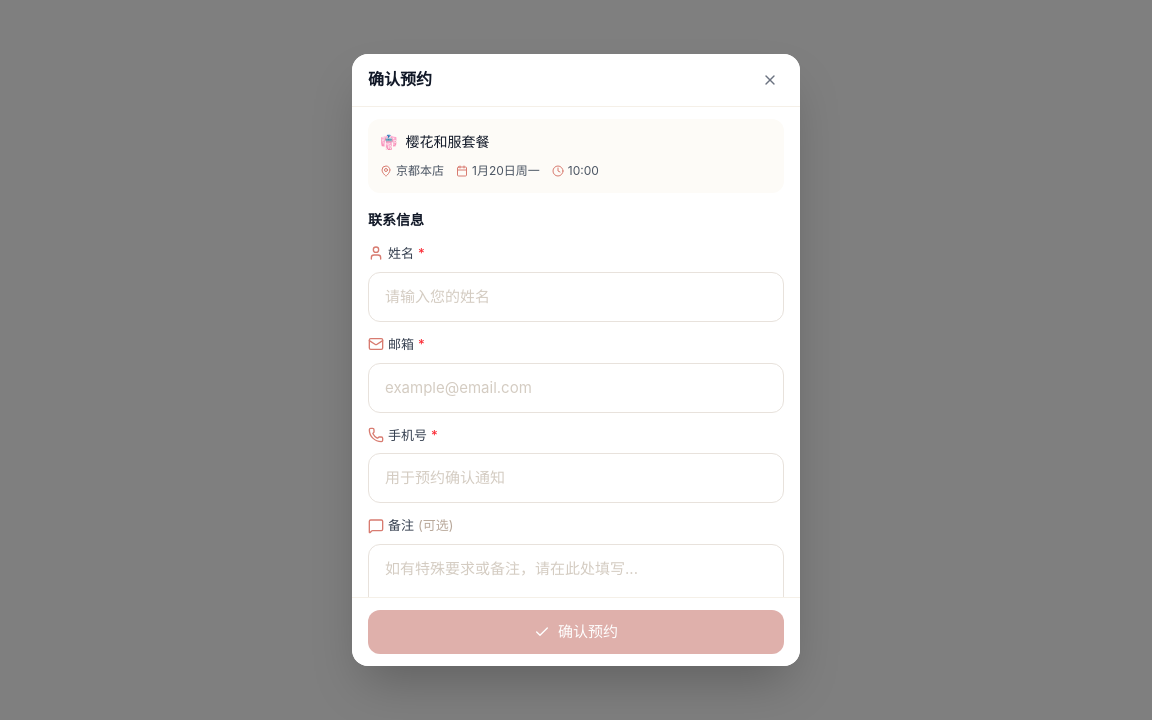
Scenario: InstantBookingModal › 表单验证 › 填写姓名和邮箱后启用提交按钮
The width and height of the screenshot is (1152, 720).
Type "张三" into the field with placeholder "请输入您的姓名" at [576, 297], box [368, 272, 784, 322]
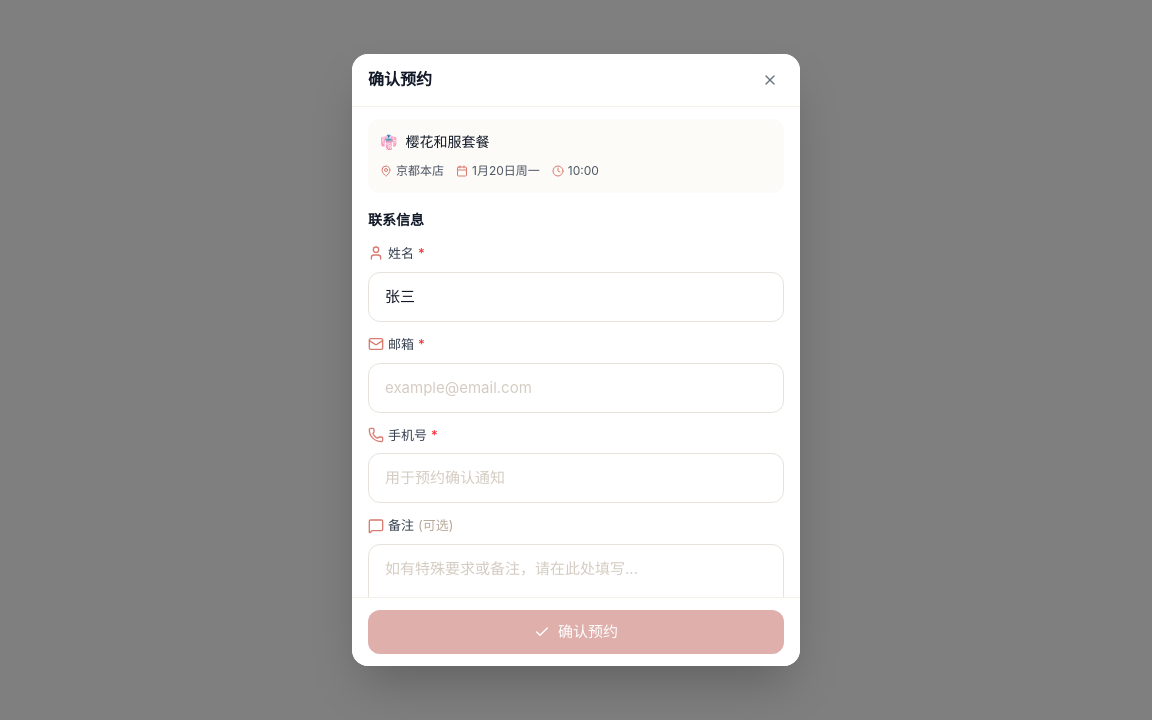
Type "test@example.com" into the field with placeholder "example@email.com" at [576, 388], box [368, 363, 784, 413]
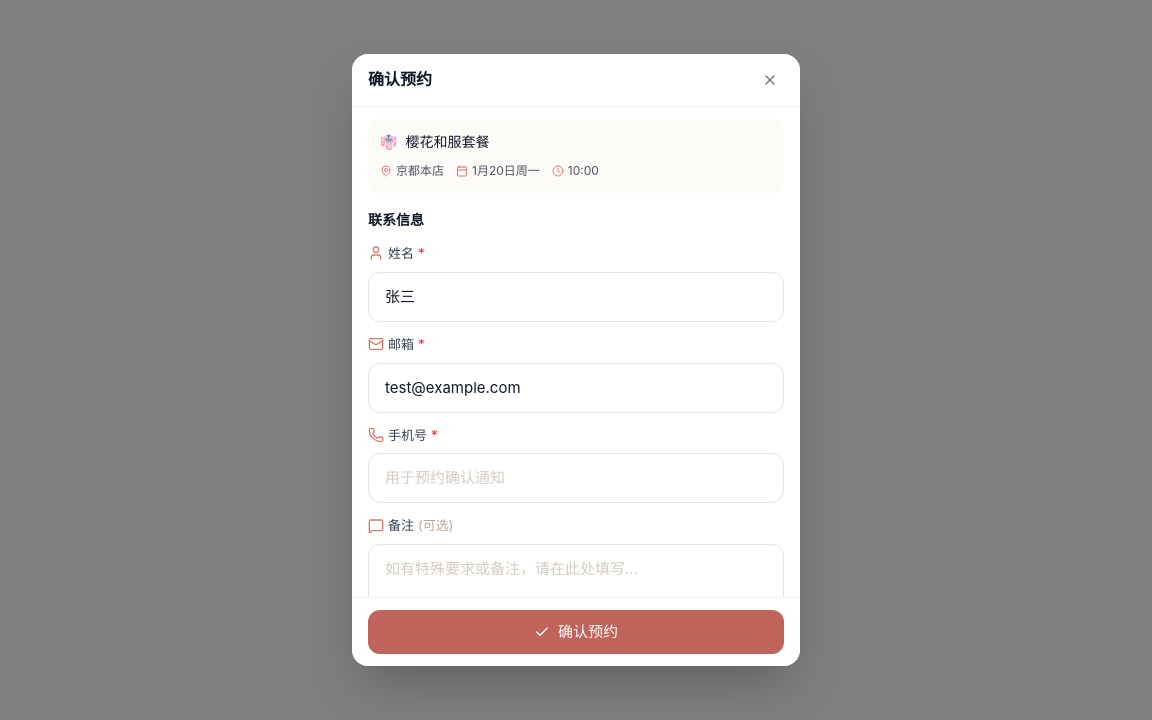
Check: the button "确认预约" is enabled, box [368, 610, 784, 654]
